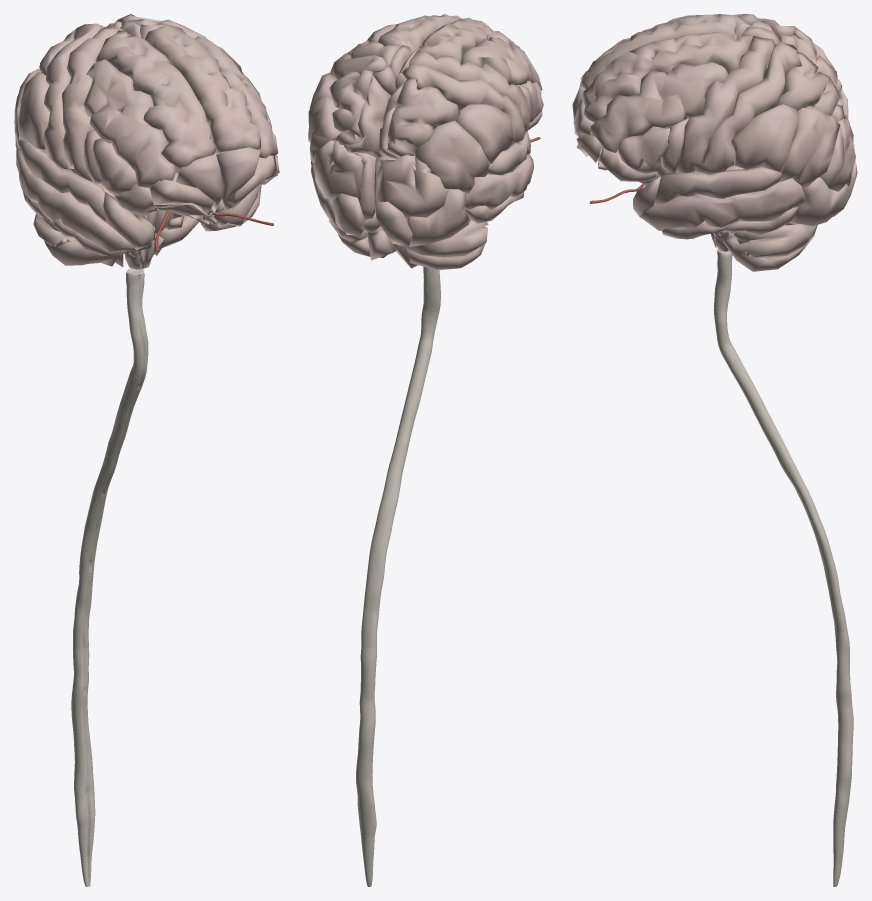
File: adult_female.nervous.LOD3.glb
The picture shows the model from 3 angles, left to right: view 1: azimuth 30°, elevation 25°; view 2: azimuth 150°, elevation 25°; view 3: azimuth 270°, elevation 25°; orthographic projection. The views are drawn at different scales.
Visible parts, largest first — view 1: ADULT.FEMALE.NERVOUS.SUPERIOR_FRONTAL_GYRUS.R, ADULT.FEMALE.NERVOUS.MIDDLE_FRONTAL_GYRUS.R, ADULT.FEMALE.NERVOUS.SUPERIOR_FRONTAL_GYRUS.L, ADULT.FEMALE.NERVOUS.PRECENTRAL_GYRUS.R, ADULT.FEMALE.NERVOUS.MIDDLE_TEMPORAL_GYRUS.R, ADULT.FEMALE.NERVOUS.POSTCENTRAL_GYRUS.R, ADULT.FEMALE.NERVOUS.SUPERIOR_TEMPORAL_GYRUS.R, ADULT.FEMALE.NERVOUS.MIDDLE_FRONTAL_GYRUS.L, ADULT.FEMALE.NERVOUS.SUPRAMARGINAL_GYRUS.R, ADULT.FEMALE.NERVOUS.LATERAL_HEMISPHERE_OF_CEREBELLUM.R, ADULT.FEMALE.NERVOUS.ROSTRAL_GYRUS.L, ADULT.FEMALE.NERVOUS.INFERIOR_FRONTAL_GYRUS_TRIANGULAR_PART. (+13 smaller); view 2: ADULT.FEMALE.NERVOUS.SUPRAPARIETAL_LOBULE.R, ADULT.FEMALE.NERVOUS.ANGULAR_GYRUS.R, ADULT.FEMALE.NERVOUS.SUPERIOR_OCCIPITAL_GYRUS.R, ADULT.FEMALE.NERVOUS.POSTCENTRAL_GYRUS.R, ADULT.FEMALE.NERVOUS.LATERAL_HEMISPHERE_OF_CEREBELLUM.R, ADULT.FEMALE.NERVOUS.SUPERIOR_OCCIPITAL_GYRUS.L, ADULT.FEMALE.NERVOUS.SUPRAPARIETAL_LOBULE.L, ADULT.FEMALE.NERVOUS.PRECENTRAL_GYRUS.R, ADULT.FEMALE.NERVOUS.SUPRAMARGINAL_GYRUS.R, ADULT.FEMALE.NERVOUS.SUPERIOR_FRONTAL_GYRUS.R, ADULT.FEMALE.NERVOUS.MIDDLE_FRONTAL_GYRUS.R, ADULT.FEMALE.NERVOUS.INFERIOR_OCCIPITAL_GYRUS.R (+21 smaller); view 3: ADULT.FEMALE.NERVOUS.MIDDLE_FRONTAL_GYRUS.L, ADULT.FEMALE.NERVOUS.SUPERIOR_FRONTAL_GYRUS.L, ADULT.FEMALE.NERVOUS.MIDDLE_TEMPORAL_GYRUS.L, ADULT.FEMALE.NERVOUS.PRECENTRAL_GYRUS.L, ADULT.FEMALE.NERVOUS.POSTCENTRAL_GYRUS.L, ADULT.FEMALE.NERVOUS.SUPRAMARGINAL_GYRUS.L, ADULT.FEMALE.NERVOUS.ANGULAR_GYRUS.L, ADULT.FEMALE.NERVOUS.SUPERIOR_TEMPORAL_GYRUS.L, ADULT.FEMALE.NERVOUS.LATERAL_HEMISPHERE_OF_CEREBELLUM.L, ADULT.FEMALE.NERVOUS.SUPERIOR_FRONTAL_GYRUS.R, ADULT.FEMALE.NERVOUS.SUPRAPARIETAL_LOBULE.L, ADULT.FEMALE.NERVOUS.INFERIOR_FRONTAL_GYRUS_TRIANGULAR_PART. (+7 smaller).
Part boxes in pixels (x1=…): ADULT.FEMALE.NERVOUS.SUPERIOR_FRONTAL_GYRUS.R: x1=95, y1=30, x2=216, y2=172; ADULT.FEMALE.NERVOUS.MIDDLE_FRONTAL_GYRUS.R: x1=83, y1=59, x2=176, y2=187; ADULT.FEMALE.NERVOUS.SUPERIOR_FRONTAL_GYRUS.L: x1=140, y1=23, x2=260, y2=154; ADULT.FEMALE.NERVOUS.PRECENTRAL_GYRUS.R: x1=62, y1=25, x2=119, y2=181; ADULT.FEMALE.NERVOUS.MIDDLE_TEMPORAL_GYRUS.R: x1=16, y1=147, x2=135, y2=251; ADULT.FEMALE.NERVOUS.POSTCENTRAL_GYRUS.R: x1=44, y1=23, x2=102, y2=169; ADULT.FEMALE.NERVOUS.SUPERIOR_TEMPORAL_GYRUS.R: x1=17, y1=141, x2=109, y2=225; ADULT.FEMALE.NERVOUS.MIDDLE_FRONTAL_GYRUS.L: x1=195, y1=36, x2=278, y2=158; ADULT.FEMALE.NERVOUS.SUPRAMARGINAL_GYRUS.R: x1=18, y1=71, x2=49, y2=149; ADULT.FEMALE.NERVOUS.LATERAL_HEMISPHERE_OF_CEREBELLUM.R: x1=33, y1=214, x2=118, y2=266; ADULT.FEMALE.NERVOUS.ROSTRAL_GYRUS.L: x1=216, y1=147, x2=260, y2=211; ADULT.FEMALE.NERVOUS.INFERIOR_FRONTAL_GYRUS_TRIANGULAR_PART.: x1=92, y1=138, x2=137, y2=196; ADULT.FEMALE.NERVOUS.SUPRAPARIETAL_LOBULE.R: x1=387, y1=78, x2=458, y2=156; ADULT.FEMALE.NERVOUS.ANGULAR_GYRUS.R: x1=415, y1=120, x2=489, y2=193; ADULT.FEMALE.NERVOUS.SUPERIOR_OCCIPITAL_GYRUS.R: x1=376, y1=156, x2=448, y2=219; ADULT.FEMALE.NERVOUS.POSTCENTRAL_GYRUS.R: x1=401, y1=64, x2=525, y2=142; ADULT.FEMALE.NERVOUS.LATERAL_HEMISPHERE_OF_CEREBELLUM.R: x1=406, y1=220, x2=488, y2=270; ADULT.FEMALE.NERVOUS.SUPERIOR_OCCIPITAL_GYRUS.L: x1=315, y1=140, x2=363, y2=203; ADULT.FEMALE.NERVOUS.SUPRAPARIETAL_LOBULE.L: x1=329, y1=69, x2=372, y2=145; ADULT.FEMALE.NERVOUS.PRECENTRAL_GYRUS.R: x1=408, y1=50, x2=530, y2=131; ADULT.FEMALE.NERVOUS.SUPRAMARGINAL_GYRUS.R: x1=456, y1=103, x2=512, y2=163; ADULT.FEMALE.NERVOUS.SUPERIOR_FRONTAL_GYRUS.R: x1=419, y1=17, x2=520, y2=64; ADULT.FEMALE.NERVOUS.MIDDLE_FRONTAL_GYRUS.R: x1=461, y1=37, x2=542, y2=90; ADULT.FEMALE.NERVOUS.INFERIOR_OCCIPITAL_GYRUS.R: x1=406, y1=189, x2=469, y2=246; ADULT.FEMALE.NERVOUS.MIDDLE_FRONTAL_GYRUS.L: x1=590, y1=61, x2=728, y2=152; ADULT.FEMALE.NERVOUS.SUPERIOR_FRONTAL_GYRUS.L: x1=582, y1=32, x2=751, y2=122; ADULT.FEMALE.NERVOUS.MIDDLE_TEMPORAL_GYRUS.L: x1=640, y1=178, x2=805, y2=230; ADULT.FEMALE.NERVOUS.PRECENTRAL_GYRUS.L: x1=676, y1=36, x2=775, y2=173; ADULT.FEMALE.NERVOUS.POSTCENTRAL_GYRUS.L: x1=696, y1=42, x2=802, y2=174; ADULT.FEMALE.NERVOUS.SUPRAMARGINAL_GYRUS.L: x1=733, y1=104, x2=798, y2=171; ADULT.FEMALE.NERVOUS.ANGULAR_GYRUS.L: x1=780, y1=107, x2=840, y2=189; ADULT.FEMALE.NERVOUS.SUPERIOR_TEMPORAL_GYRUS.L: x1=654, y1=167, x2=781, y2=205; ADULT.FEMALE.NERVOUS.LATERAL_HEMISPHERE_OF_CEREBELLUM.L: x1=719, y1=224, x2=817, y2=271; ADULT.FEMALE.NERVOUS.SUPERIOR_FRONTAL_GYRUS.R: x1=580, y1=14, x2=751, y2=89; ADULT.FEMALE.NERVOUS.SUPRAPARIETAL_LOBULE.L: x1=773, y1=52, x2=844, y2=121; ADULT.FEMALE.NERVOUS.INFERIOR_FRONTAL_GYRUS_TRIANGULAR_PART.: x1=617, y1=126, x2=670, y2=173.
Size of the model in its own units: 0.1359 by 0.5553 by 0.1669.
